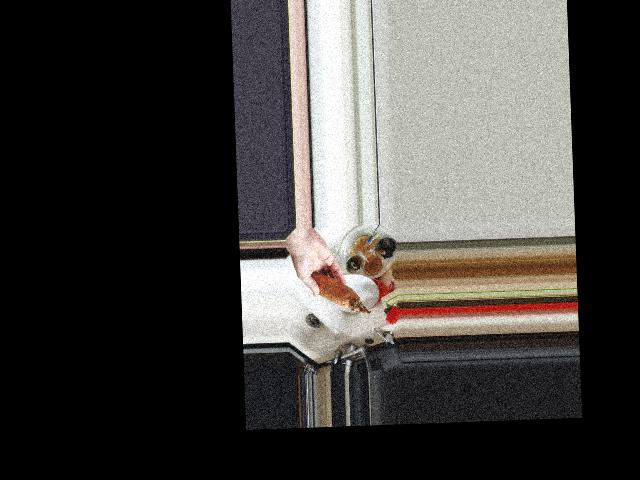sweet_potato: (306, 266, 372, 316)
